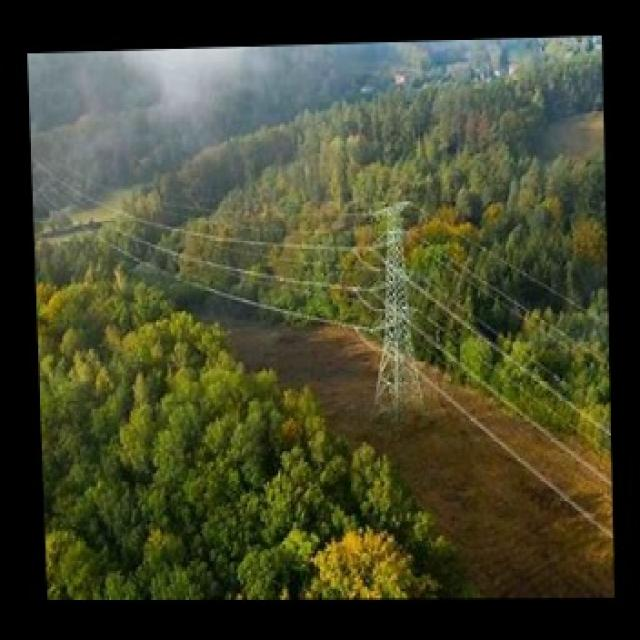utility poles: (367, 179, 432, 419)
